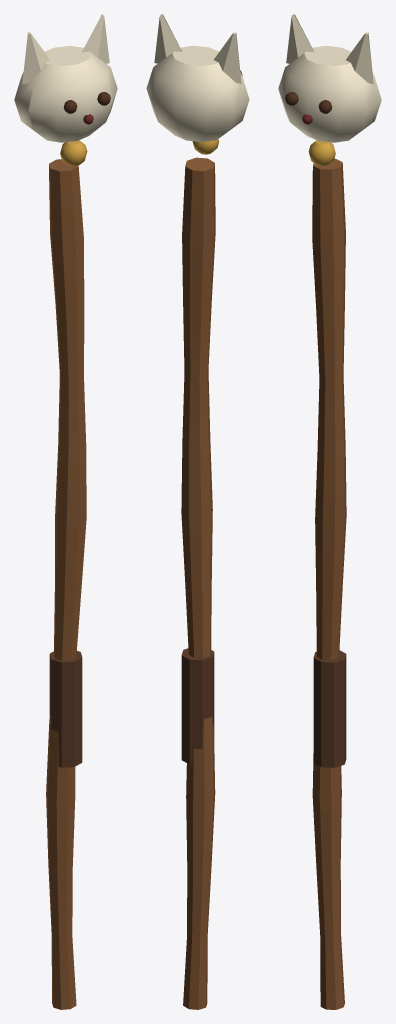
Rendered from CatStaff.fbx.
The picture shows the model from 3 angles, left to right: view 1: azimuth 30°, elevation 25°; view 2: azimuth 150°, elevation 25°; view 3: azimuth 330°, elevation 25°; orthographic projection.
Visible parts, largest first — view 1: CatStaff; view 2: CatStaff; view 3: CatStaff.
Part boxes in pixels (x1,y1,x2,y2): CatStaff: (14, 14, 117, 1009); CatStaff: (146, 14, 249, 1009); CatStaff: (278, 14, 381, 1009).
Bounding box in the file's own units: 0.1331 × 1.4 × 0.1245.
